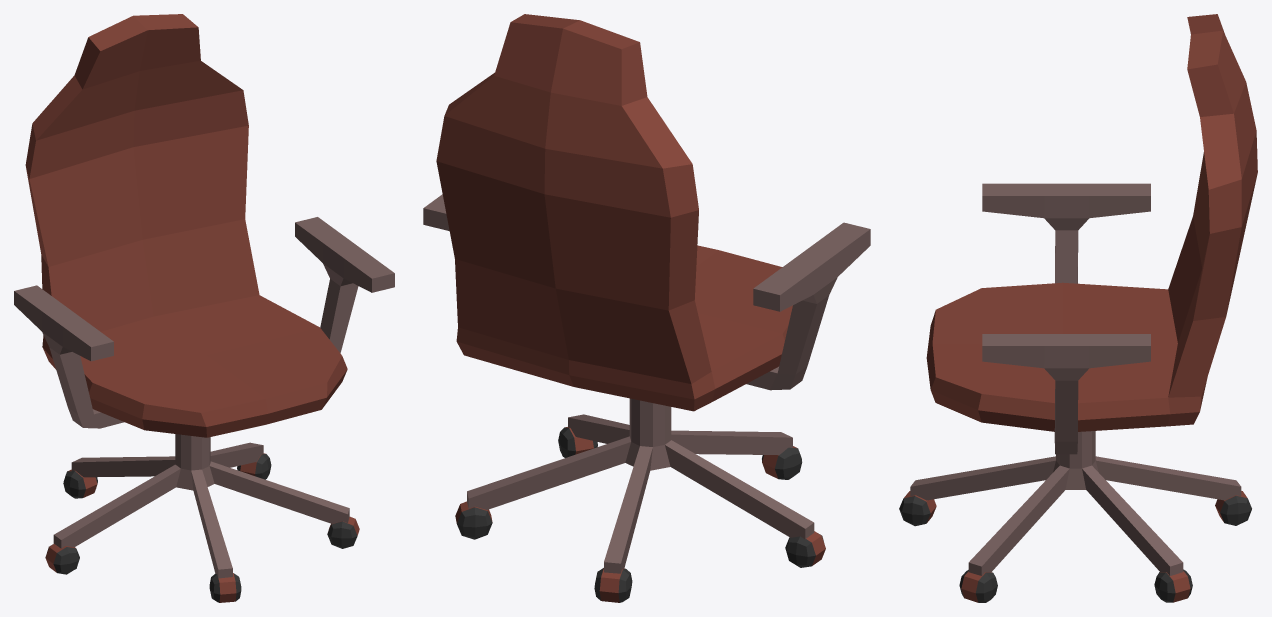
Rendered from Gaming Chair.fbx.
3 views of the same model, side by side, from view 1: azimuth 30°, elevation 25°; view 2: azimuth 150°, elevation 25°; view 3: azimuth 270°, elevation 25° (orthographic). The views are drawn at different scales.
Parts seen in each view (by area): view 1: Gaming Chair; view 2: Gaming Chair; view 3: Gaming Chair.
Part boxes in pixels (left/top/right/bottom): Gaming Chair: left=14, top=14, right=394, bottom=602; Gaming Chair: left=423, top=14, right=870, bottom=602; Gaming Chair: left=899, top=14, right=1257, bottom=602.
Size of the model in its own units: 0.9204 by 1.37 by 0.8582.
